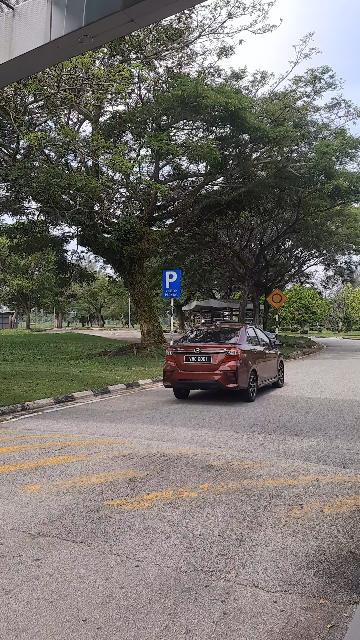License_Plate: (181, 354, 216, 366)
car: (163, 321, 294, 406)
